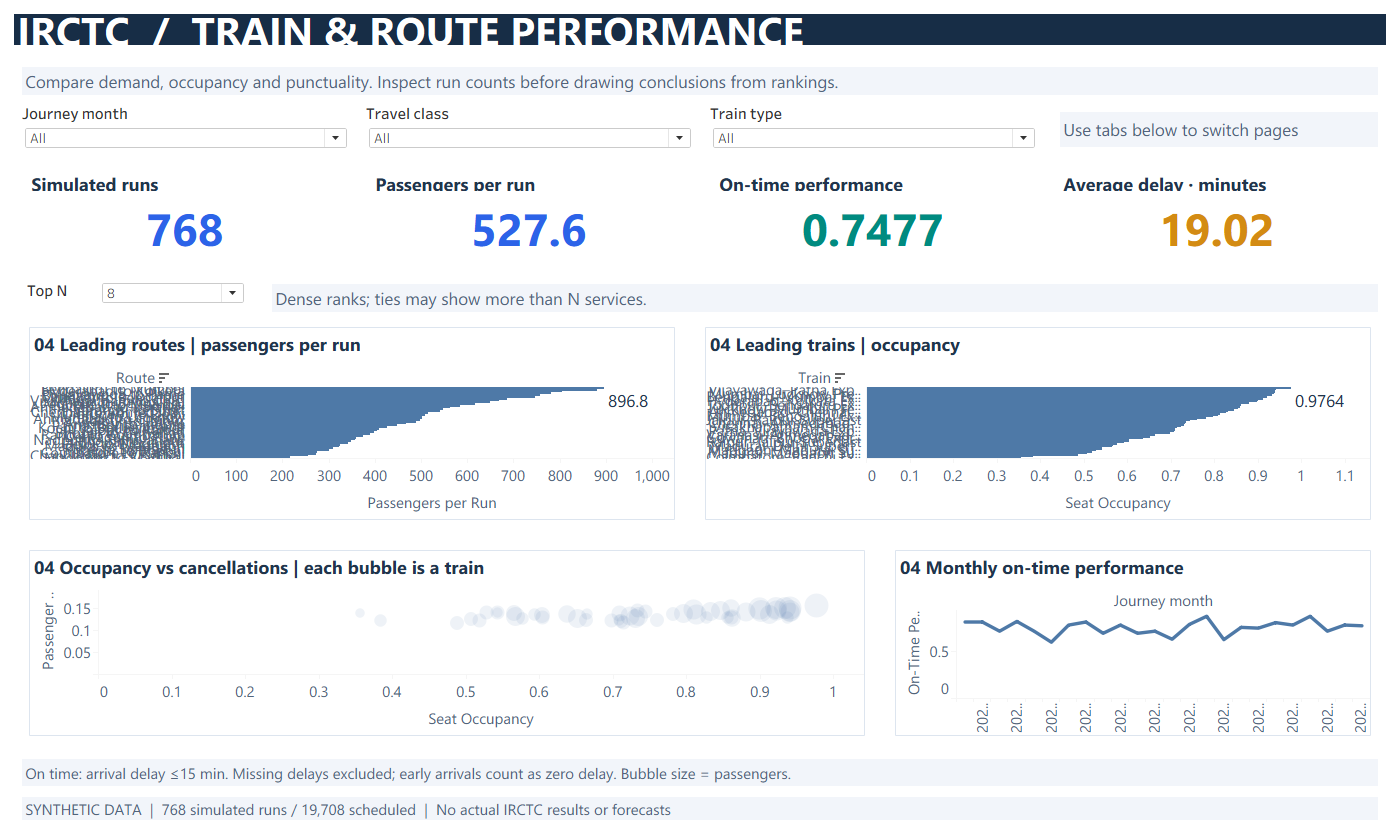

Layout of this report page (visuals, bound fields, positions):
{"tool":"tableau","page":{"name":"04 Train and route","canvas":[1400,820],"ordinal":3},"visuals":[{"type":"text","box":[0,0,1400,58]},{"type":"text","box":[22,66,1356,28]},{"type":"parameter","param":"[Parameters].[Journey month]","box":[22,102,328,53]},{"type":"parameter","param":"[Parameters].[Travel class]","box":[366,102,328,53]},{"type":"parameter","param":"[Parameters].[Train type]","box":[710,102,328,53]},{"type":"text","box":[1060,111,318,35]},{"type":"text","box":[22,168,327,27]},{"type":"text","box":[366,168,327,27]},{"type":"text","box":[710,168,327,27]},{"type":"text","box":[1054,168,327,27]},{"type":"worksheet","title":"04 KPI Simulated runs","mark":"Text","box":[22,195,327,61]},{"type":"worksheet","title":"04 KPI Passengers per run","mark":"Text","box":[366,195,327,61]},{"type":"worksheet","title":"04 KPI On-time performance","mark":"Text","box":[710,195,327,61]},{"type":"worksheet","title":"04 KPI Average delay · minutes","mark":"Text","box":[1054,195,327,61]},{"type":"parameter","param":"[Parameters].[Top N]","box":[22,272,230,39]},{"type":"text","box":[272,281,1106,28]},{"type":"worksheet","title":"04 Leading routes | passengers per run","mark":"Bar","rows":["RouteName"],"cols":["Passengers per Run"],"box":[22,316,660,205]},{"type":"worksheet","title":"04 Leading trains | occupancy","mark":"Bar","rows":["TrainName"],"cols":["Seat Occupancy"],"box":[698,316,680,205]},{"type":"worksheet","title":"04 Occupancy vs cancellations | each bubble is a train","mark":"Circle","rows":["Passenger Cancellation Rate"],"cols":["Seat Occupancy"],"box":[22,537,850,198]},{"type":"worksheet","title":"04 Monthly on-time performance","mark":"Line","rows":["On-Time Performance"],"cols":["Month"],"box":[888,537,490,198]},{"type":"text","box":[22,751,1356,27]},{"type":"text","box":[22,788,1356,23]}]}

Visuals, with their boxes in screenshot pixels (x1, y1, x2, y2), scaled from the page's 1400x820 canvas onto the 1400x820 screenshot:
text: box(0, 0, 1399, 58)
text: box(22, 66, 1378, 94)
parameter: box(22, 102, 350, 155)
parameter: box(366, 102, 694, 155)
parameter: box(710, 102, 1038, 155)
text: box(1060, 111, 1378, 146)
text: box(22, 168, 349, 195)
text: box(366, 168, 693, 195)
text: box(710, 168, 1037, 195)
text: box(1054, 168, 1381, 195)
"04 KPI Simulated runs" worksheet (Text marks): box(22, 195, 349, 256)
"04 KPI Passengers per run" worksheet (Text marks): box(366, 195, 693, 256)
"04 KPI On-time performance" worksheet (Text marks): box(710, 195, 1037, 256)
"04 KPI Average delay · minutes" worksheet (Text marks): box(1054, 195, 1381, 256)
parameter: box(22, 272, 252, 311)
text: box(272, 281, 1378, 309)
"04 Leading routes | passengers per run" worksheet (Bar marks): box(22, 316, 682, 521)
"04 Leading trains | occupancy" worksheet (Bar marks): box(698, 316, 1378, 521)
"04 Occupancy vs cancellations | each bubble is a train" worksheet (Circle marks): box(22, 537, 872, 735)
"04 Monthly on-time performance" worksheet (Line marks): box(888, 537, 1378, 735)
text: box(22, 751, 1378, 778)
text: box(22, 788, 1378, 811)
